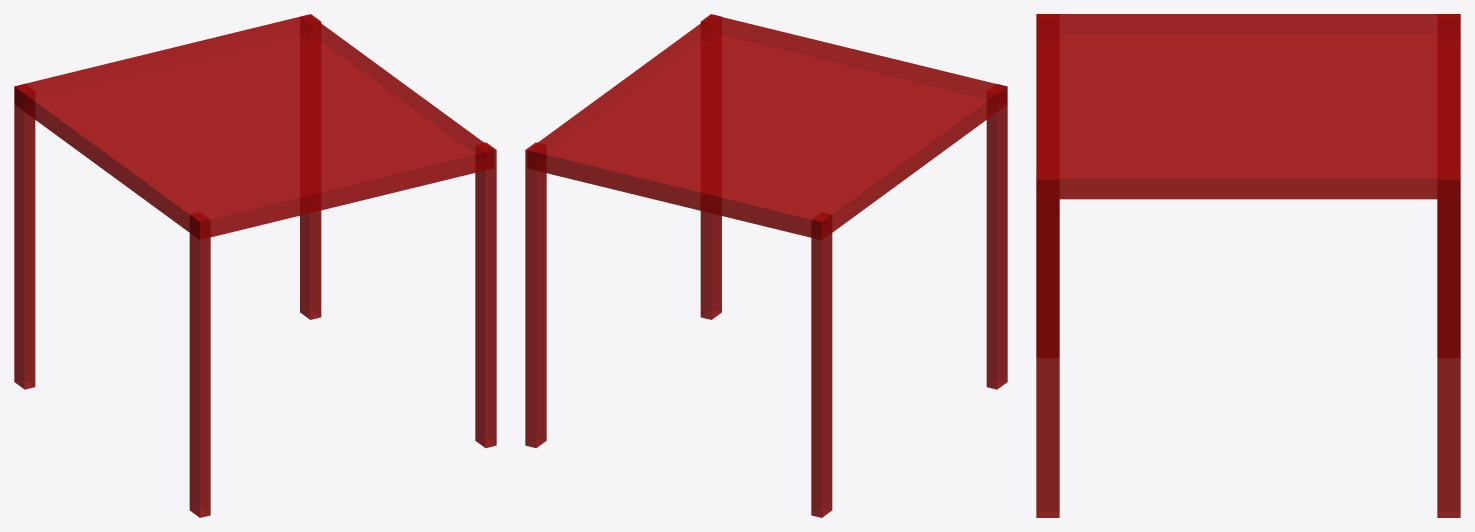
File: SM_Bld_Village_ClothCover_Large_02_Collision.fbx
3 renders of one model, left to right at view 1: azimuth 30°, elevation 25°; view 2: azimuth 150°, elevation 25°; view 3: azimuth 270°, elevation 25°, orthographic. The views are drawn at different scales.
Parts seen in each view (by area): view 1: SM_Bld_Village_ClothCover_Large_02_Collision; view 2: SM_Bld_Village_ClothCover_Large_02_Collision; view 3: SM_Bld_Village_ClothCover_Large_02_Collision.
Boxes of the visible parts, left/top/right/bottom form: SM_Bld_Village_ClothCover_Large_02_Collision: left=14, top=14, right=496, bottom=517; SM_Bld_Village_ClothCover_Large_02_Collision: left=525, top=14, right=1007, bottom=517; SM_Bld_Village_ClothCover_Large_02_Collision: left=1036, top=14, right=1460, bottom=517.
Size of the model in its own units: 416 by 397 by 452.
